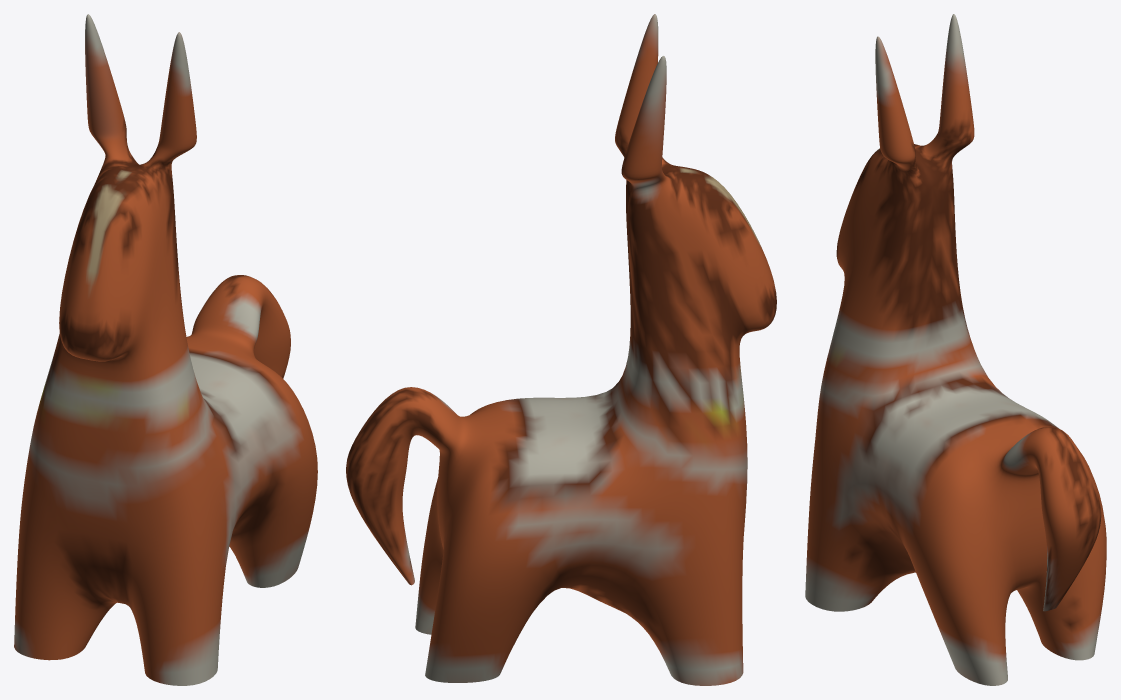
Rendered from asset.glb.
3 renders of one model, left to right at view 1: azimuth 30°, elevation 25°; view 2: azimuth 150°, elevation 25°; view 3: azimuth 270°, elevation 25°, orthographic. The views are drawn at different scales.
Visible parts, largest first — view 1: Cylinder002; view 2: Cylinder002; view 3: Cylinder002.
Boxes of the visible parts, left/top/right/bottom form: Cylinder002: left=14, top=14, right=317, bottom=685; Cylinder002: left=346, top=14, right=776, bottom=685; Cylinder002: left=805, top=14, right=1106, bottom=685.
Size of the model in its own units: 1598 by 2834 by 1361.
